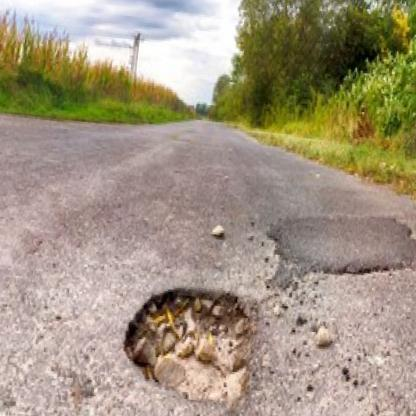pothole: (115, 275, 270, 413)
